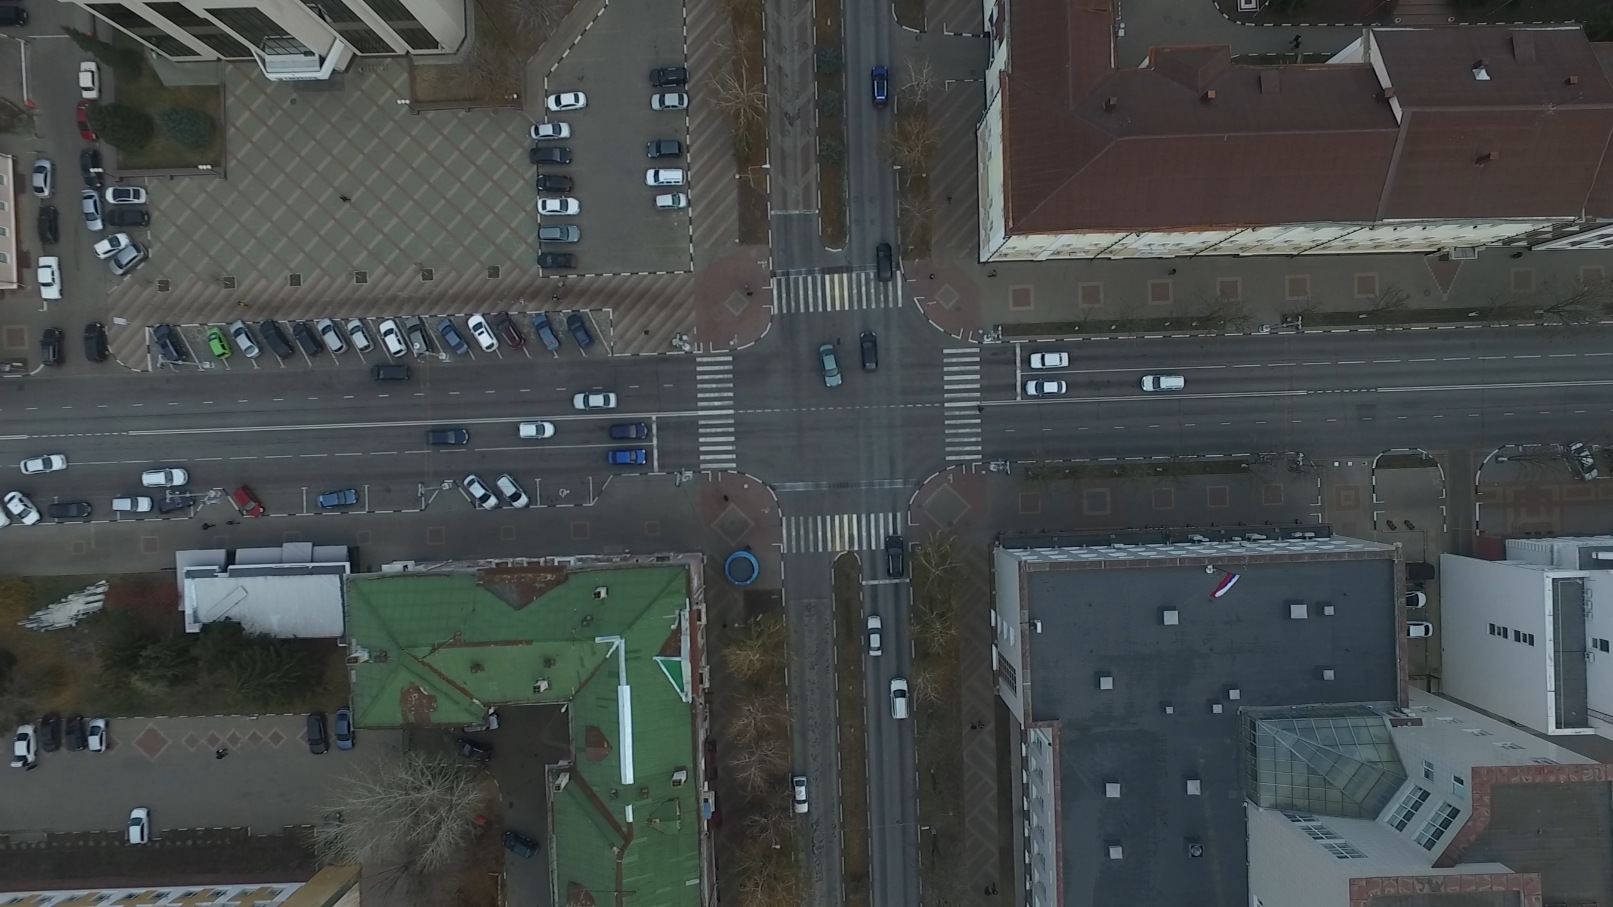car: (153, 323, 193, 365), (468, 313, 507, 353), (463, 472, 504, 509), (261, 319, 297, 361), (1570, 441, 1604, 483), (18, 452, 70, 480), (316, 316, 351, 355), (229, 320, 265, 360), (35, 255, 64, 301), (109, 240, 148, 274), (7, 489, 42, 526), (491, 312, 525, 350), (436, 317, 471, 354), (304, 710, 330, 757), (92, 228, 129, 262), (533, 311, 563, 352), (404, 315, 434, 355), (376, 320, 408, 358), (503, 829, 542, 860), (646, 60, 692, 85), (230, 486, 265, 521), (499, 471, 532, 506), (12, 723, 37, 771), (454, 735, 493, 765), (820, 342, 845, 388), (320, 810, 347, 853), (81, 187, 107, 230), (345, 321, 378, 355), (152, 492, 196, 517), (569, 391, 623, 412), (540, 220, 585, 245), (82, 321, 107, 364), (295, 320, 326, 355), (30, 156, 56, 197), (79, 144, 105, 185), (609, 421, 650, 447), (126, 804, 152, 846), (1138, 373, 1189, 394), (78, 101, 102, 144), (61, 713, 88, 752), (75, 61, 102, 99), (567, 315, 596, 349), (536, 195, 581, 217), (104, 206, 148, 228), (875, 243, 898, 285), (140, 468, 191, 487), (332, 708, 355, 751), (103, 183, 146, 205), (544, 90, 587, 112), (39, 328, 62, 369), (48, 499, 95, 519), (38, 714, 62, 753), (205, 326, 232, 361), (864, 614, 884, 660), (648, 92, 691, 113), (372, 360, 414, 381), (527, 146, 574, 165), (886, 534, 904, 583), (891, 676, 910, 721), (644, 168, 686, 188), (314, 489, 358, 508), (1023, 379, 1069, 396), (424, 430, 471, 447), (530, 120, 571, 140), (653, 190, 691, 212), (35, 206, 56, 245), (645, 138, 684, 159), (860, 331, 879, 374), (871, 65, 890, 109), (536, 171, 576, 190), (85, 718, 109, 751), (792, 776, 812, 815), (538, 251, 581, 269), (517, 420, 555, 439), (606, 451, 649, 466), (1029, 351, 1071, 367), (112, 495, 152, 511), (1403, 621, 1434, 638), (1405, 565, 1434, 583), (1405, 589, 1429, 609)
